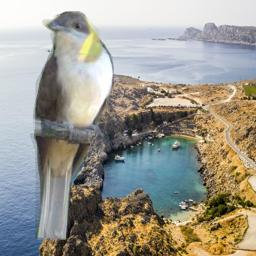Cuckoo: (30, 11, 114, 240)
